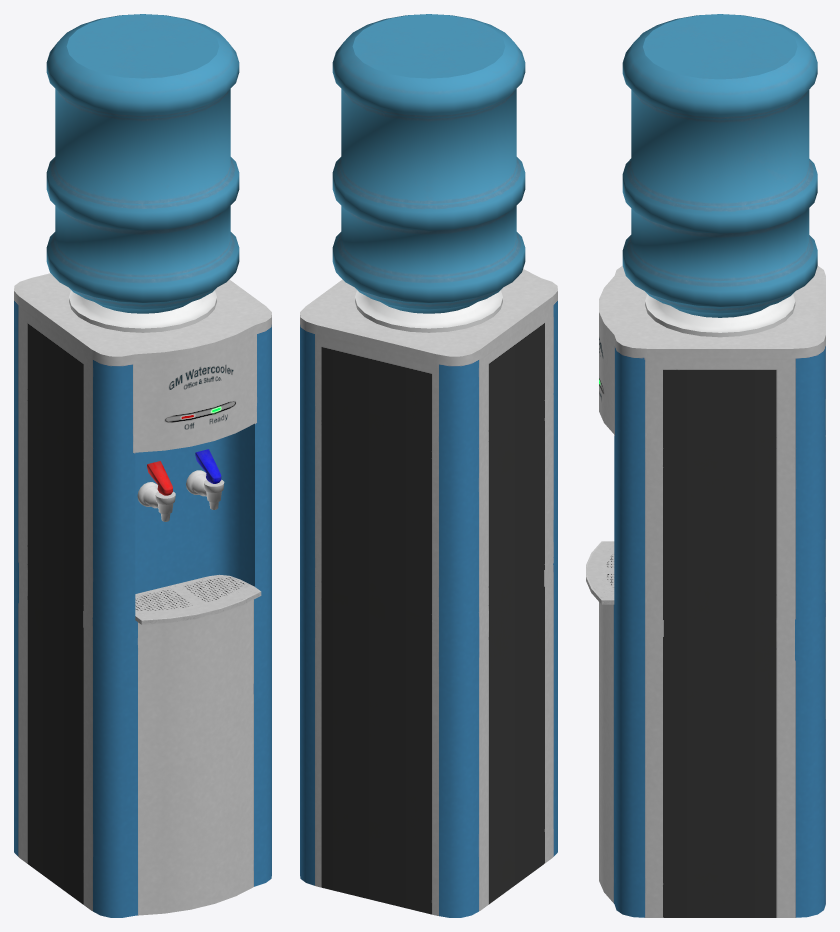
The model's file is SM_Watercooler.fbx.
The picture shows the model from 3 angles, left to right: view 1: azimuth 30°, elevation 25°; view 2: azimuth 150°, elevation 25°; view 3: azimuth 270°, elevation 25°; orthographic projection.
Visible parts, largest first — view 1: SM_Watercooler_LOD0; view 2: SM_Watercooler_LOD0; view 3: SM_Watercooler_LOD0.
Boxes of the visible parts, x1=… form: SM_Watercooler_LOD0: x1=14, y1=14, x2=271, y2=917; SM_Watercooler_LOD0: x1=300, y1=14, x2=557, y2=917; SM_Watercooler_LOD0: x1=586, y1=14, x2=825, y2=917.
Bounding box in the file's own units: 47.25 × 55.3 × 211.
2 materials, 2 textured.
